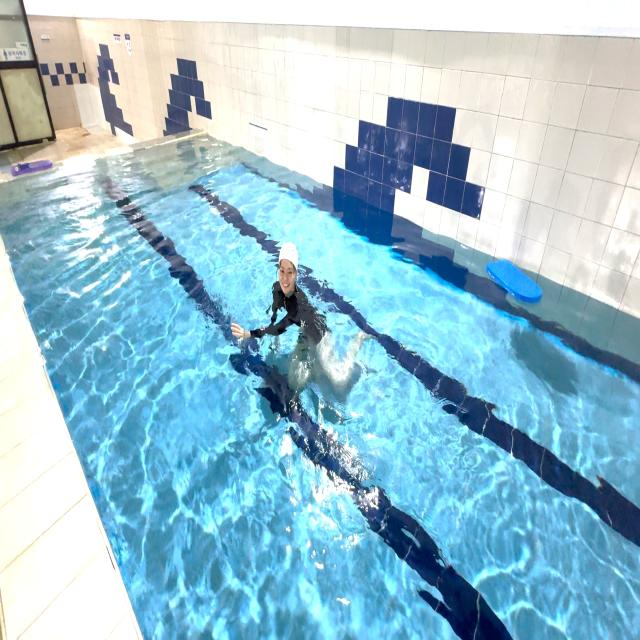Swimming: (224, 213, 387, 442)
